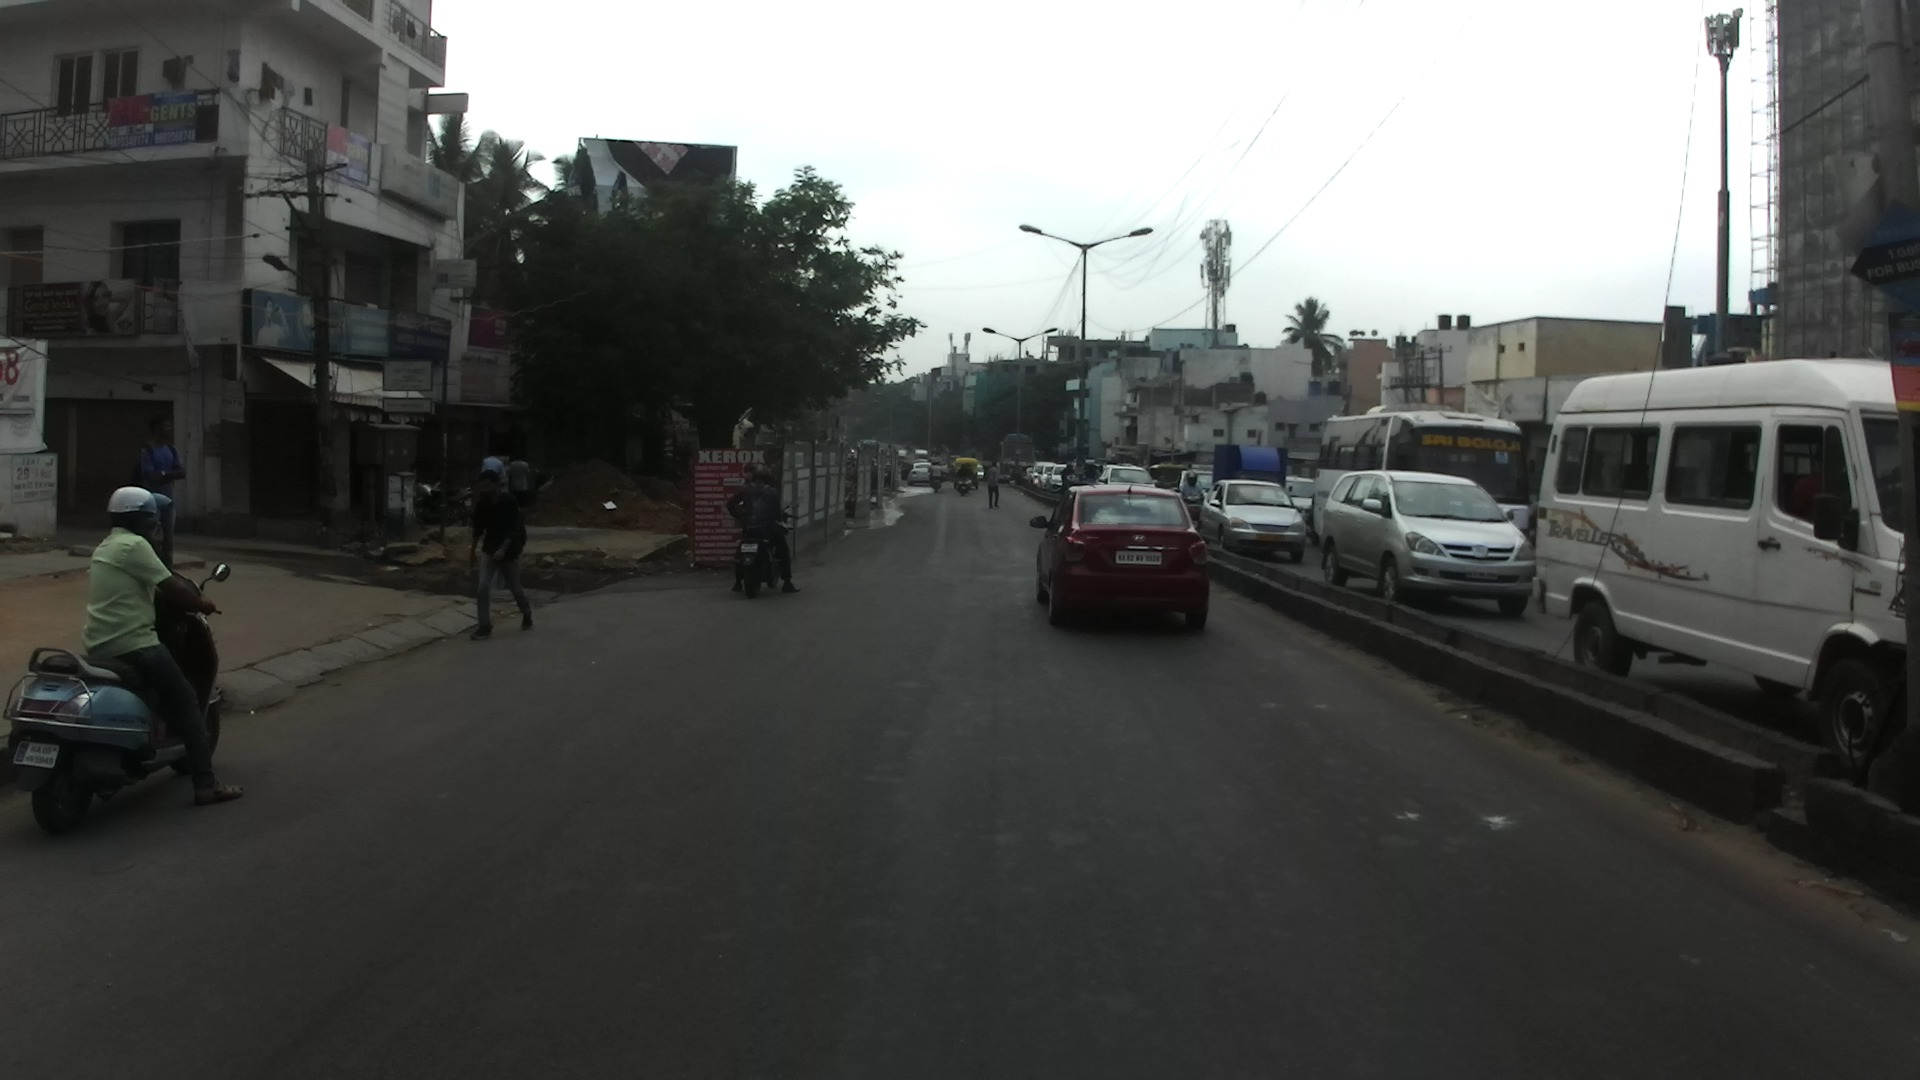autorickshaw: (952, 457, 979, 491)
bus: (1540, 357, 1917, 772), (1308, 401, 1530, 547)
car: (1315, 471, 1538, 614), (1029, 483, 1216, 630), (1198, 479, 1305, 563), (1173, 465, 1218, 521), (1282, 476, 1315, 536), (1095, 464, 1157, 488), (1026, 460, 1056, 489), (906, 460, 933, 485), (1047, 464, 1076, 488), (899, 460, 917, 480), (897, 449, 912, 462), (978, 464, 986, 480)
motorcycle: (1, 561, 231, 837), (728, 502, 799, 600), (410, 479, 476, 526), (1173, 486, 1211, 531), (1060, 471, 1080, 494), (954, 475, 973, 497), (926, 474, 943, 494)
person: (464, 470, 531, 640), (132, 414, 181, 583), (510, 453, 532, 509), (479, 449, 504, 487), (986, 462, 999, 509)
rider: (81, 481, 248, 803), (721, 464, 807, 591), (1181, 473, 1205, 501), (956, 462, 974, 483), (1060, 461, 1075, 484), (928, 457, 943, 479)
truck: (1212, 443, 1288, 506), (981, 434, 1035, 482)
vehicle fallback: (1148, 462, 1188, 492), (1078, 459, 1103, 485), (914, 447, 933, 462)
